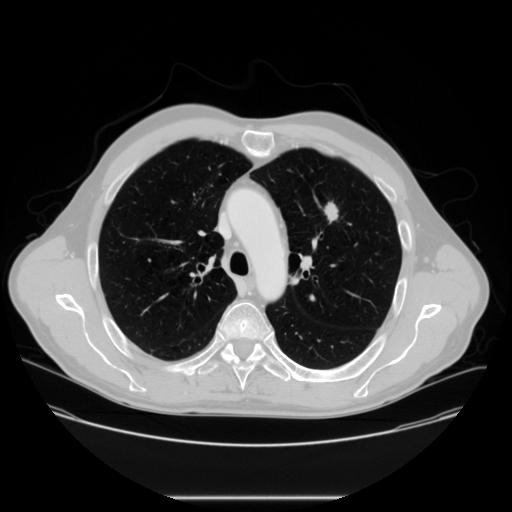nodule: (321, 202, 342, 223)
